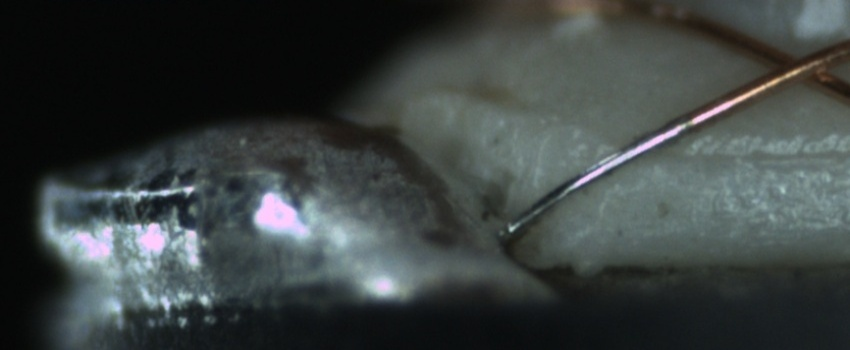CL: (746, 36, 845, 93)
DL: (649, 125, 849, 189)
TS: (504, 115, 694, 242)
